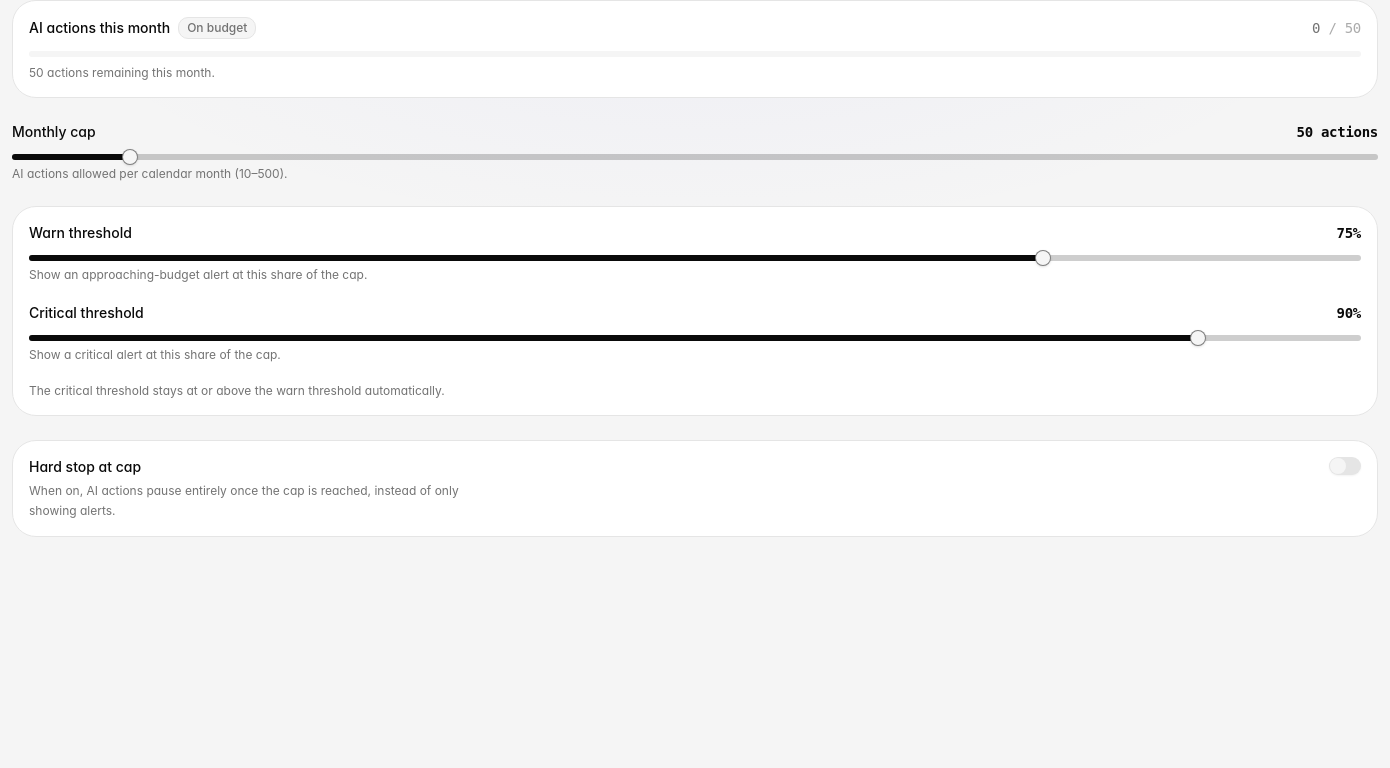
Test: AiUsageBudget › changing the cap persists to the cfx-profile store
This screenshot has width=1390, height=768.
Focus the slider named "Monthly cap" at point(130, 157), box x1=122 y1=149 x2=138 y2=165
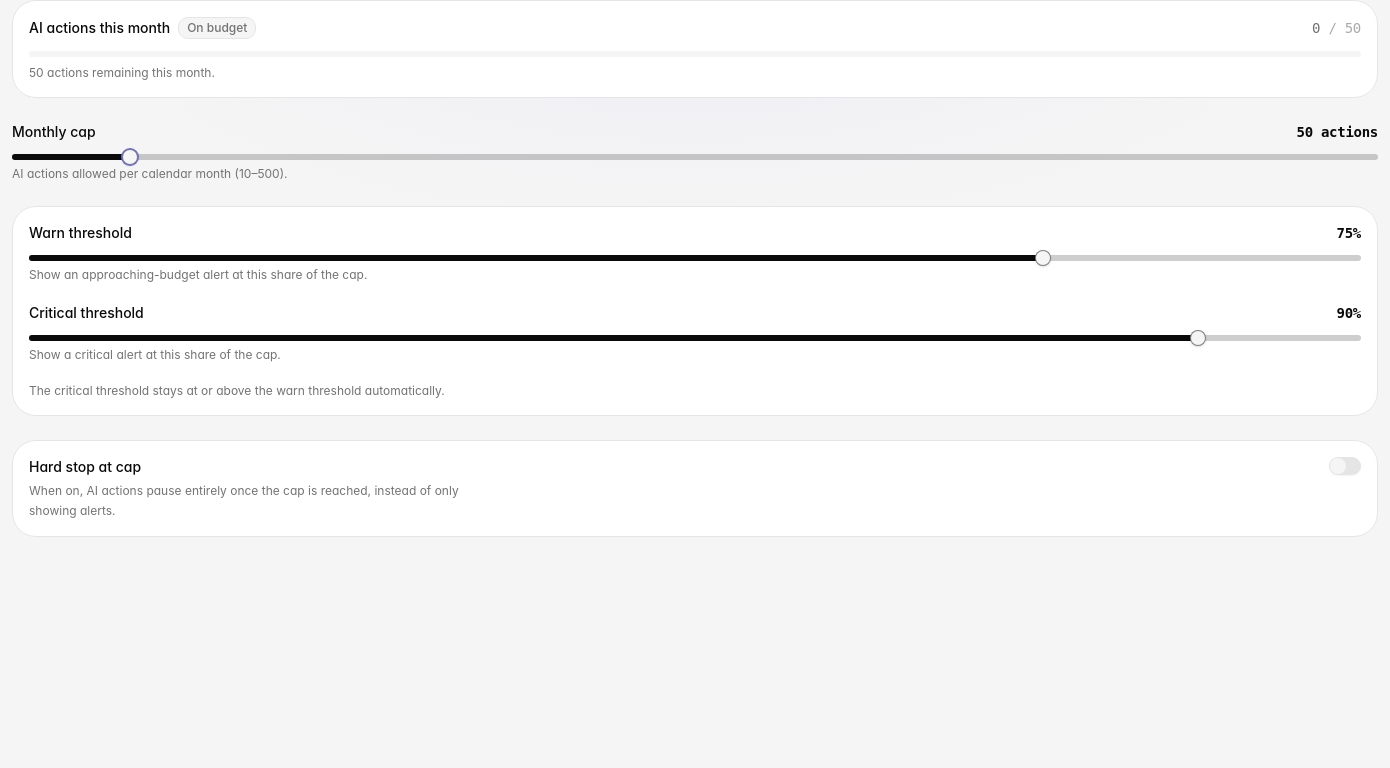
Press ArrowRight in the slider named "Monthly cap", box x1=122 y1=149 x2=138 y2=165
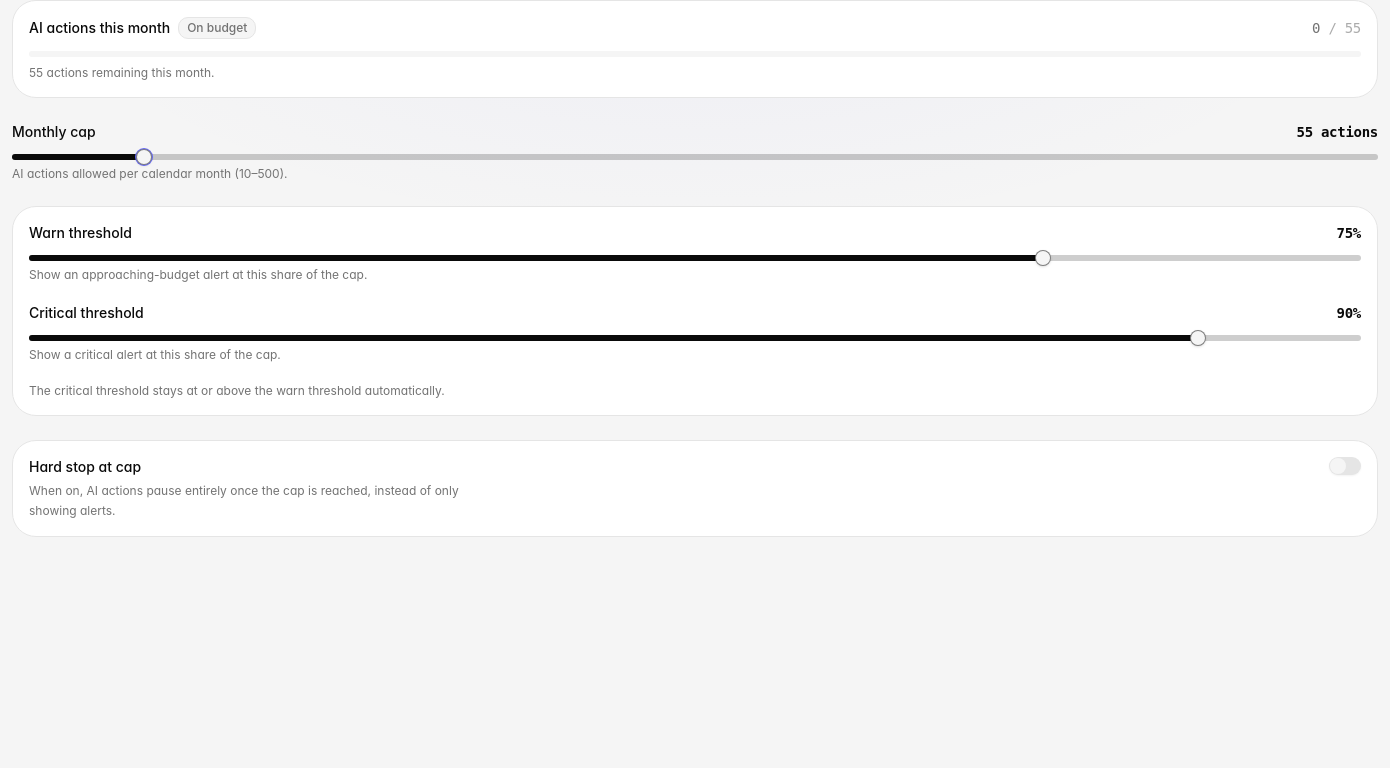
Press ArrowRight in the slider named "Monthly cap", box x1=136 y1=149 x2=152 y2=165
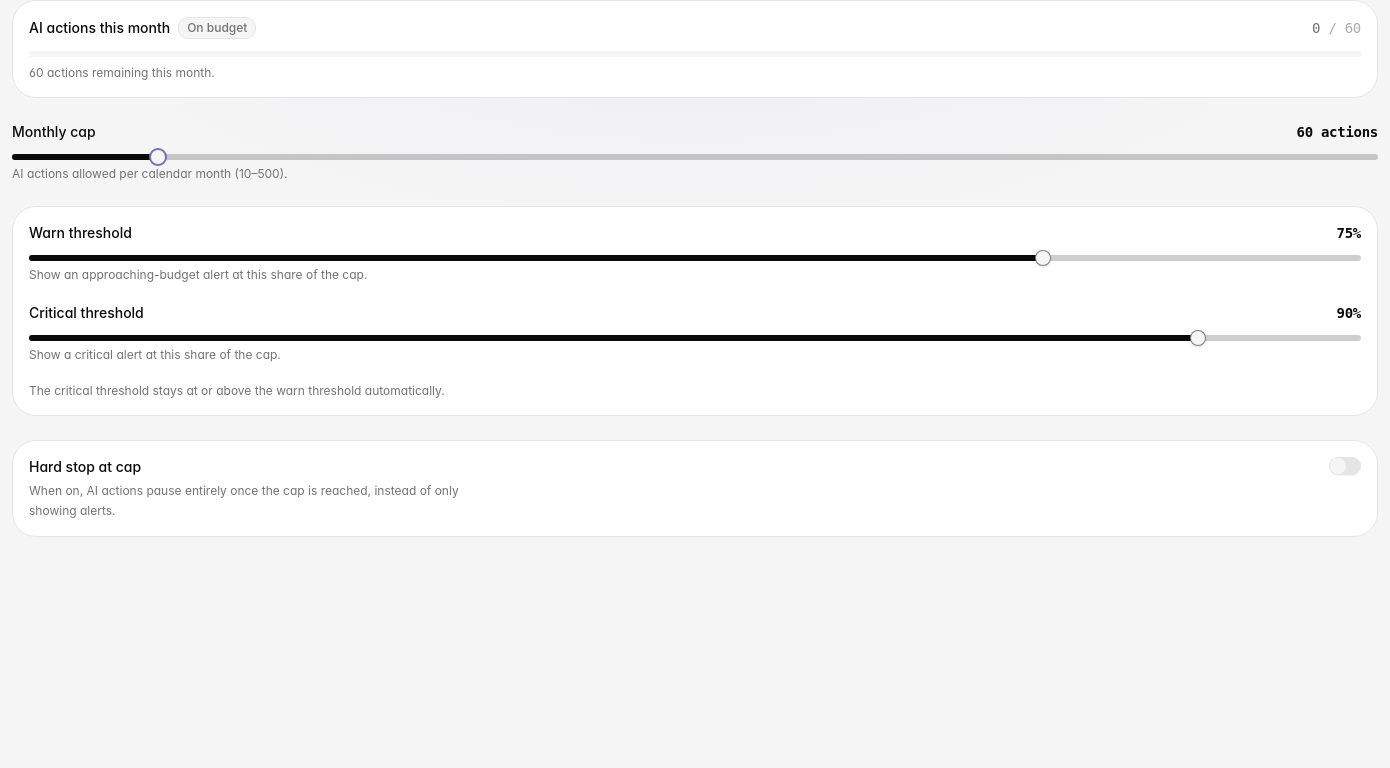
Press ArrowRight in the slider named "Monthly cap", box x1=150 y1=149 x2=166 y2=165
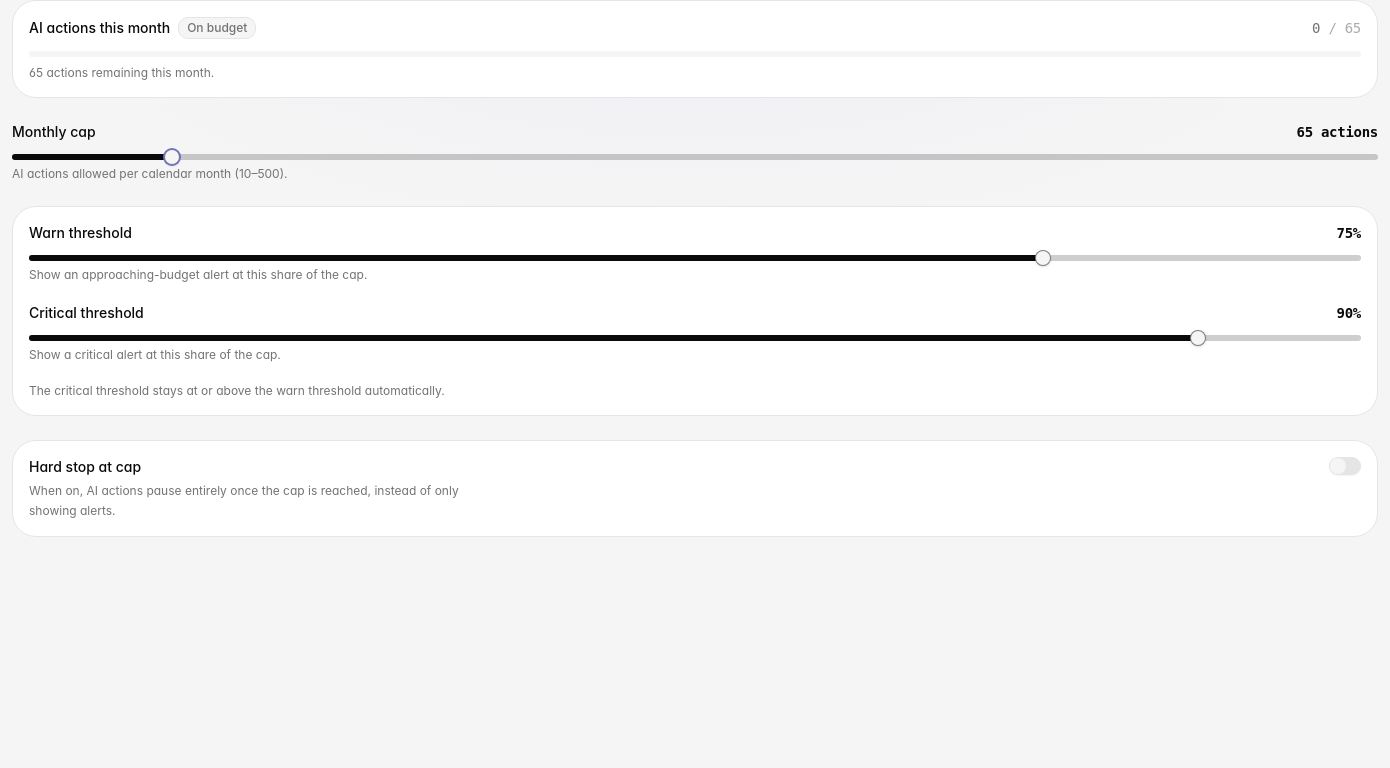
Press ArrowRight in the slider named "Monthly cap", box x1=164 y1=149 x2=180 y2=165
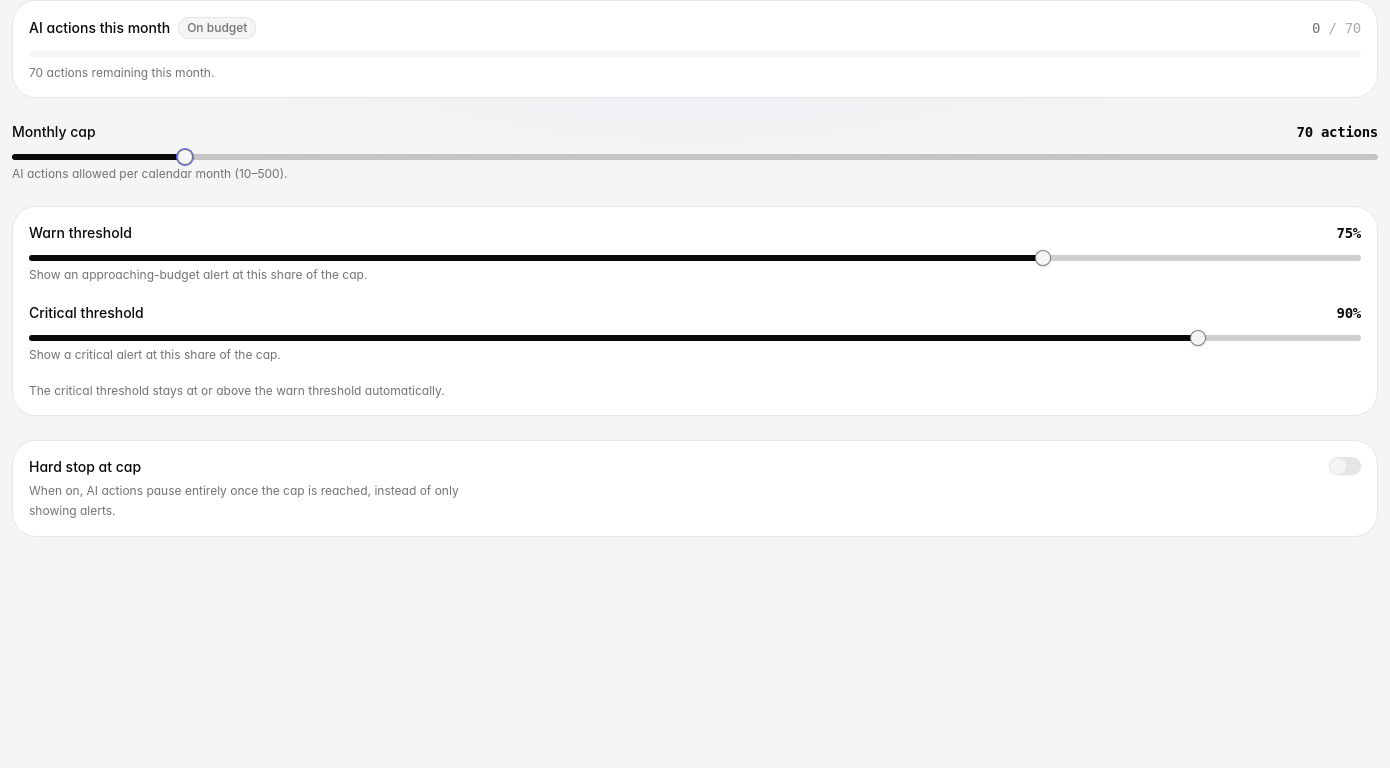
Result: the text with test id "cap-value" reads "70 actions" at x1=1296 y1=122 x2=1378 y2=142
